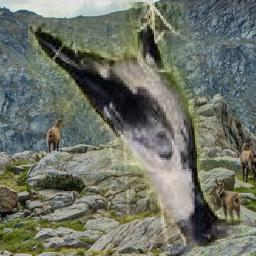Crow: (29, 3, 246, 248)
